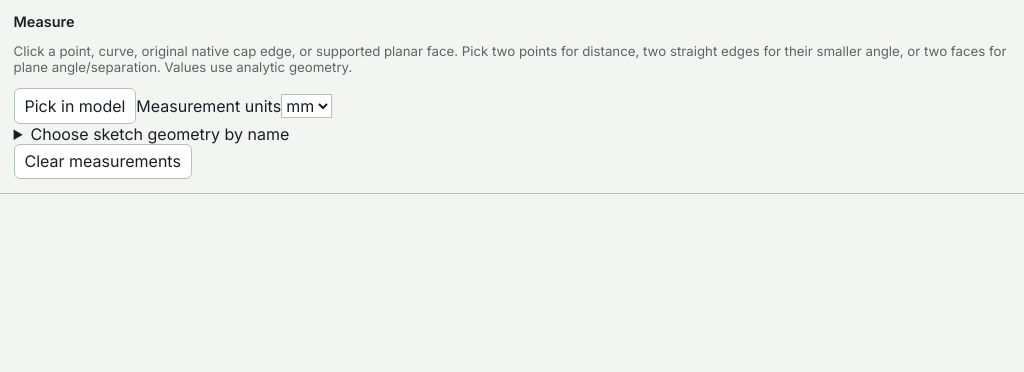
Test: model measurement panel › keeps units chosen before the first pick shared with the model readout
Select "in" in the dropdown labelled "Measurement units" at x=307, y=106, box [281, 94, 332, 118]
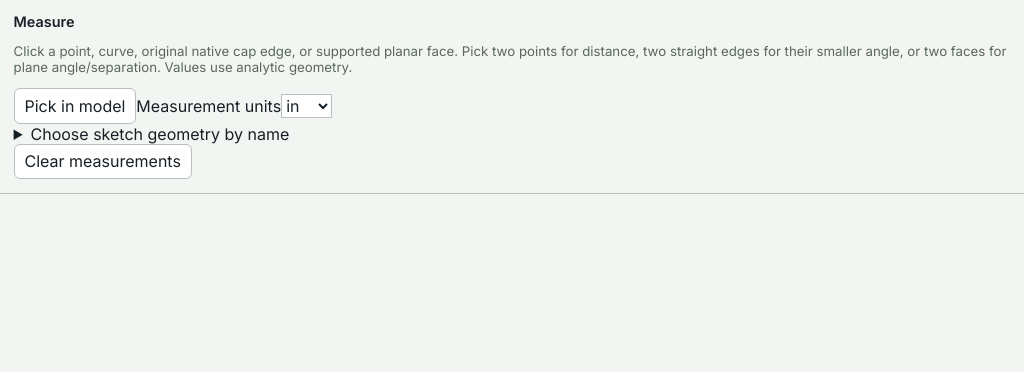
Click the button "Pick in model" at x=75, y=106, box [14, 88, 136, 124]
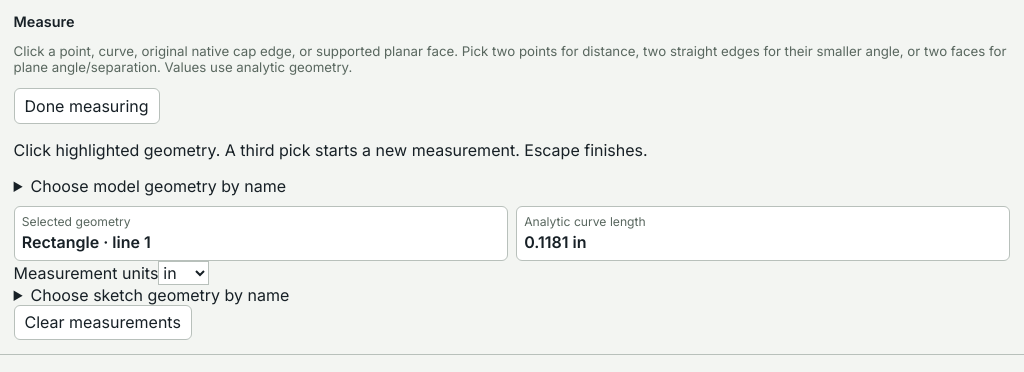
Now the text named "Model measured length" reads "0.1181 in", box [524, 232, 586, 252]
